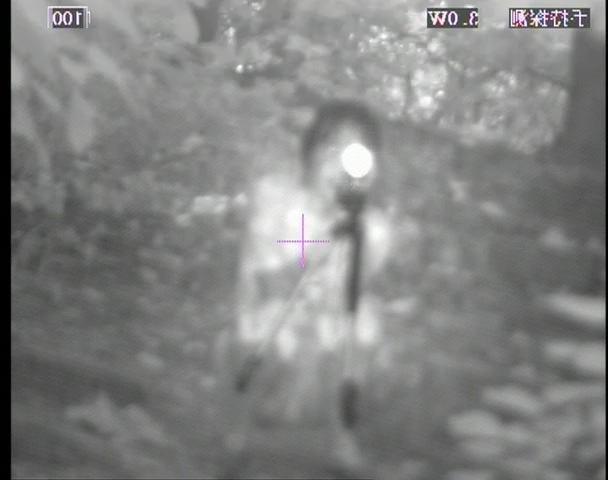my: (339, 143, 373, 179)
